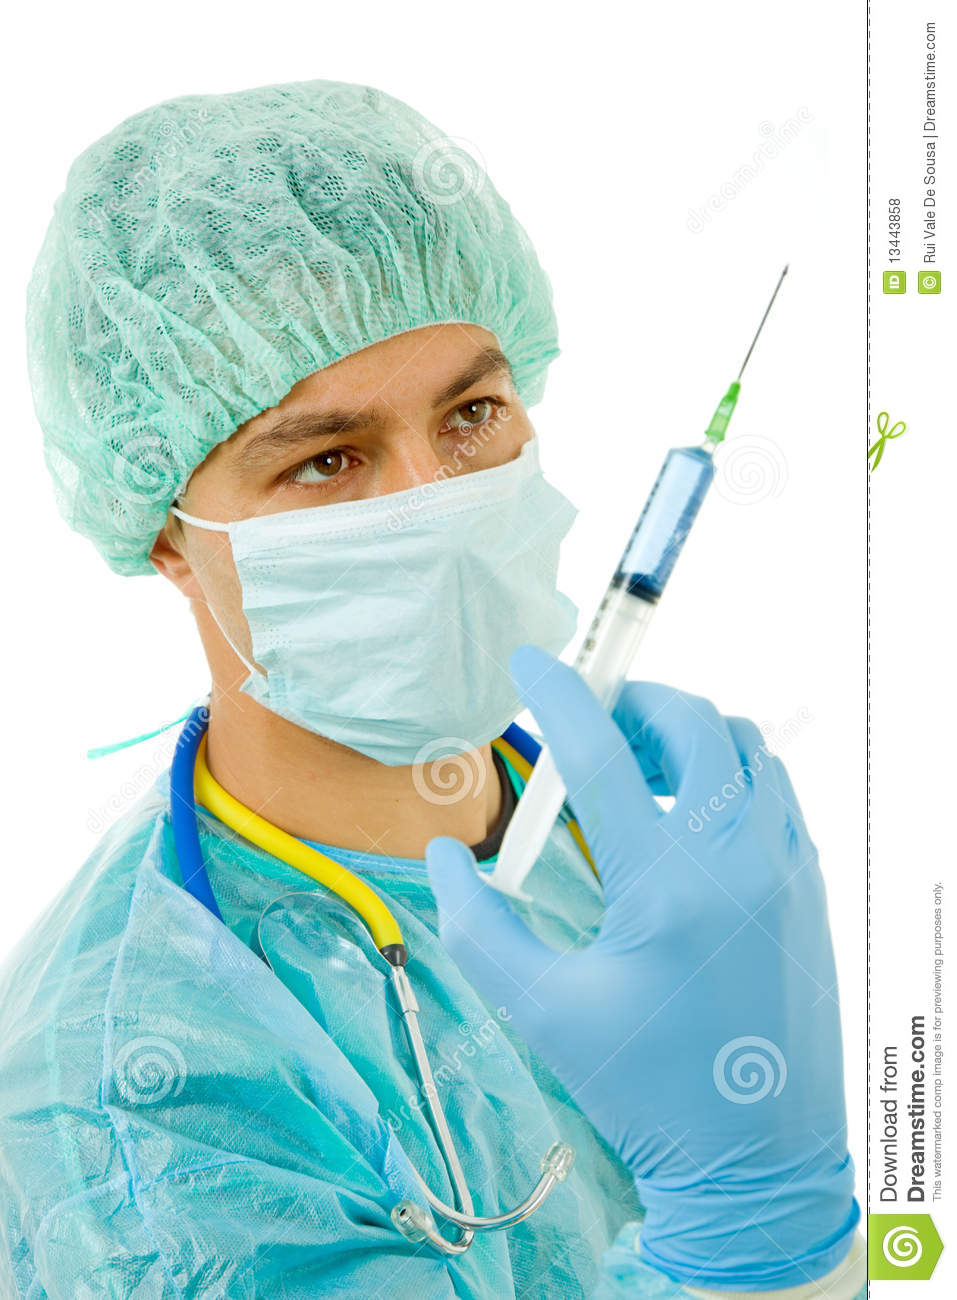mask: (241, 448, 584, 773)
